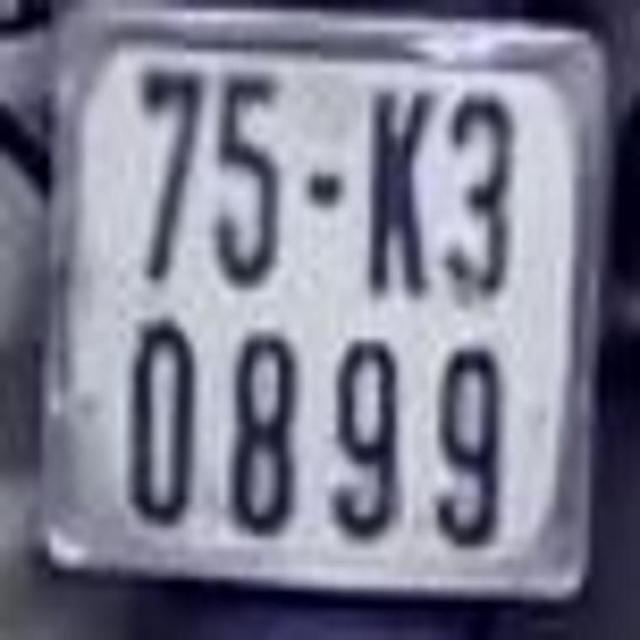0: (128, 313, 193, 528)
3: (450, 90, 514, 301)
5: (215, 71, 278, 290)
7: (136, 65, 204, 280)
8: (232, 331, 292, 535)
9: (433, 333, 507, 558), (330, 332, 403, 538)
K: (366, 83, 430, 300)
